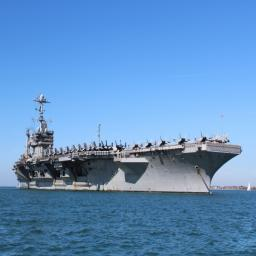Portanaves: (10, 93, 244, 199)
